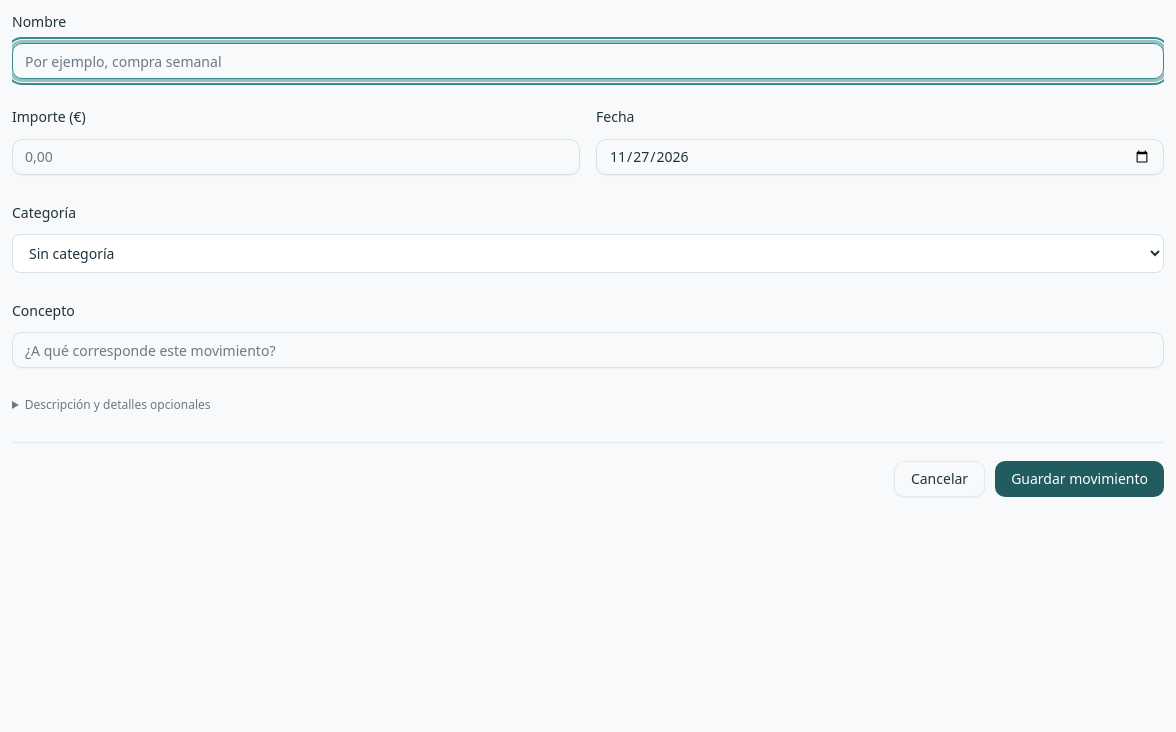
formulario de gasto › impide enviar importes con más de dos decimales
In the field labelled "Nombre": (588, 61) 12,43 -> 1164,79, type "Compra"
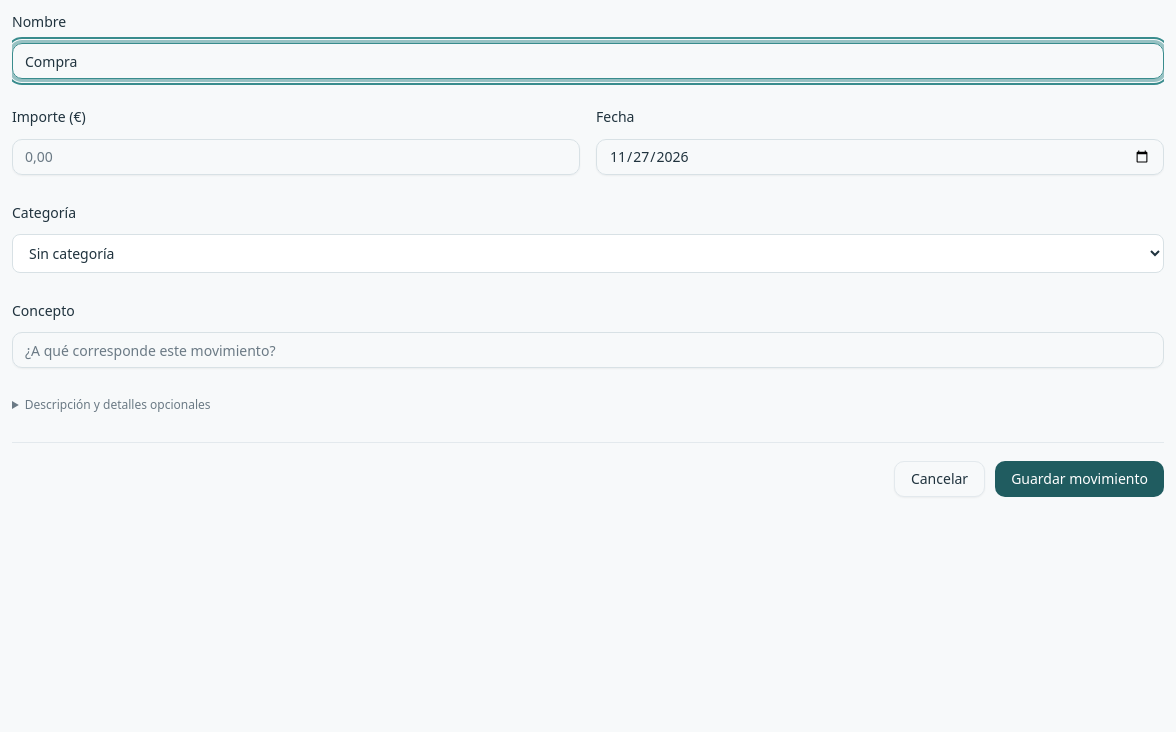
In the field labelled "Importe (€)": (296, 156) 12,138 -> 580,174, type "1,234"
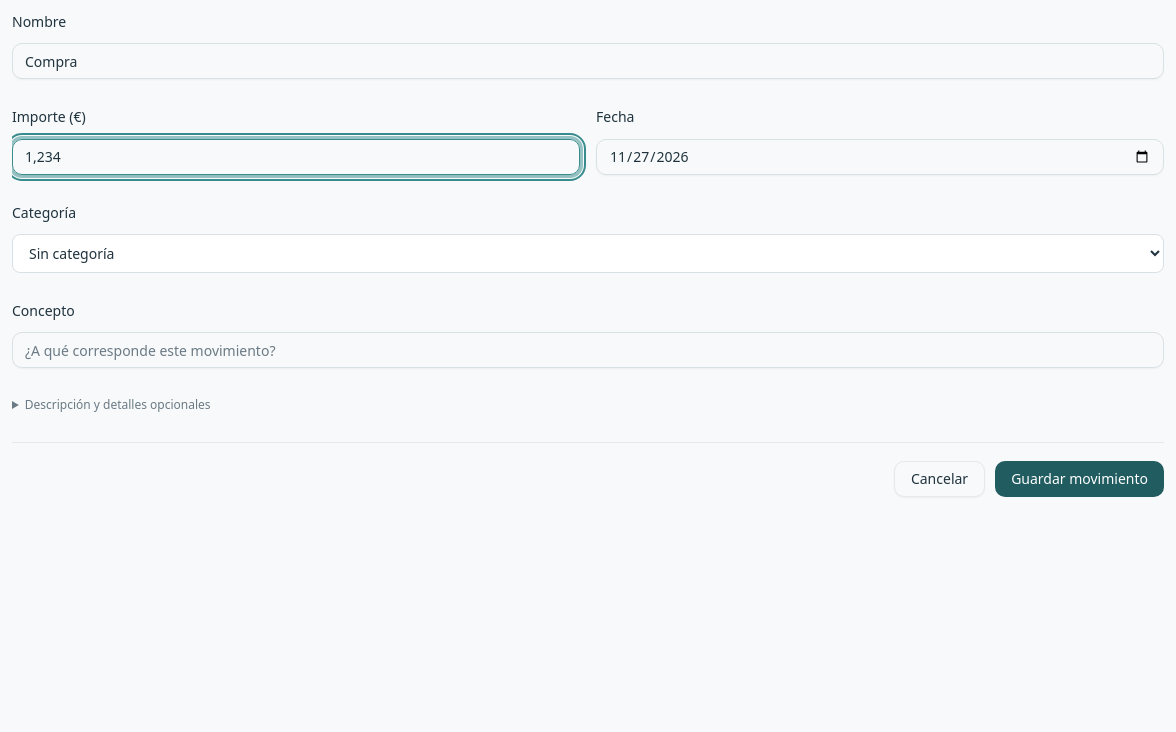
Click the button "Guardar movimiento": click(1080, 479) 995,461 -> 1164,497
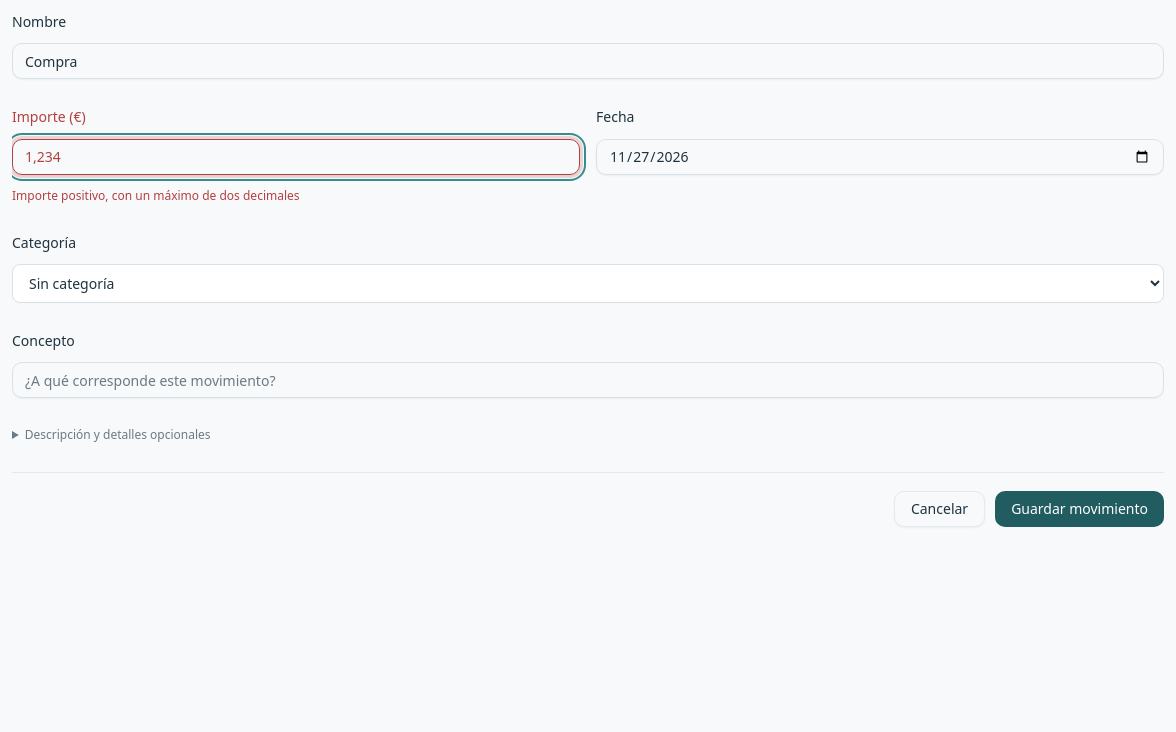
expect the text "Importe positivo, con un máximo de dos decimales" is shown: met, box 12,186 -> 300,204
